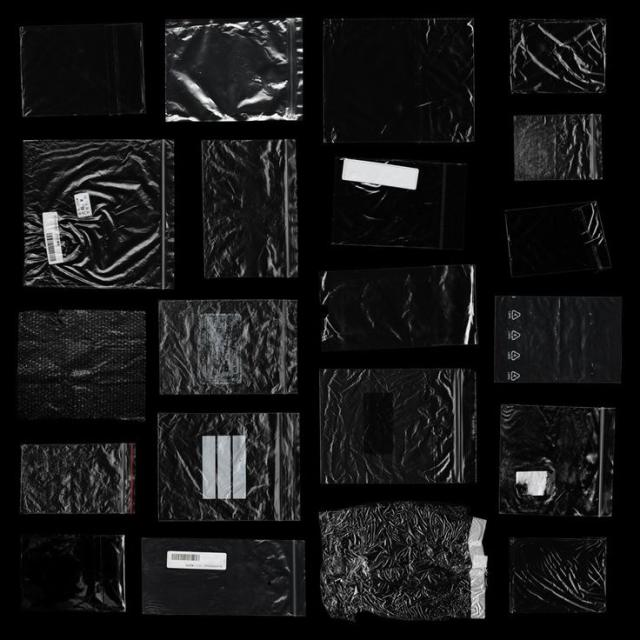Single-layer Plastic: (24, 140, 174, 288), (320, 501, 488, 620), (324, 19, 474, 142), (320, 370, 476, 483), (159, 414, 300, 521), (18, 310, 145, 421), (166, 19, 302, 121), (320, 265, 476, 349), (203, 140, 298, 277), (159, 300, 296, 394), (500, 405, 615, 516), (142, 539, 305, 616), (331, 158, 468, 248), (20, 24, 145, 116), (494, 298, 621, 382), (505, 201, 611, 276), (22, 535, 125, 611), (21, 444, 134, 513), (510, 19, 605, 94), (510, 538, 605, 613), (514, 114, 602, 181)
